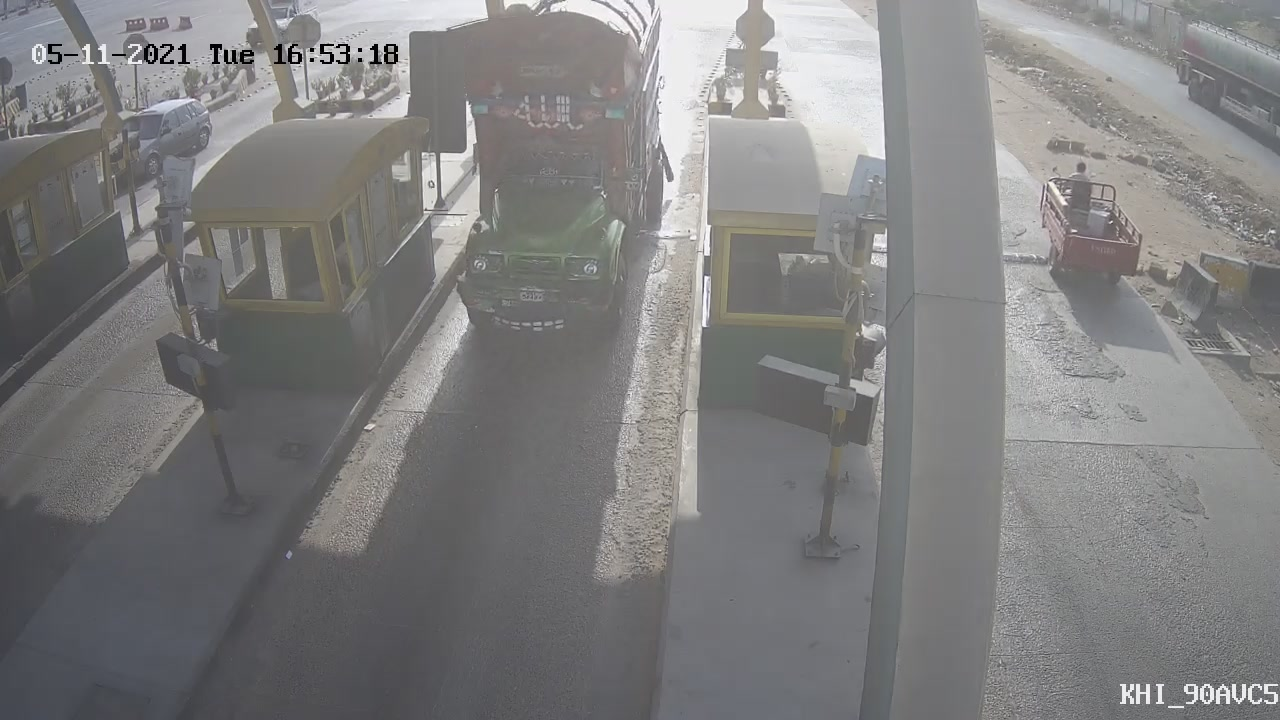F5: (433, 1, 689, 365)
